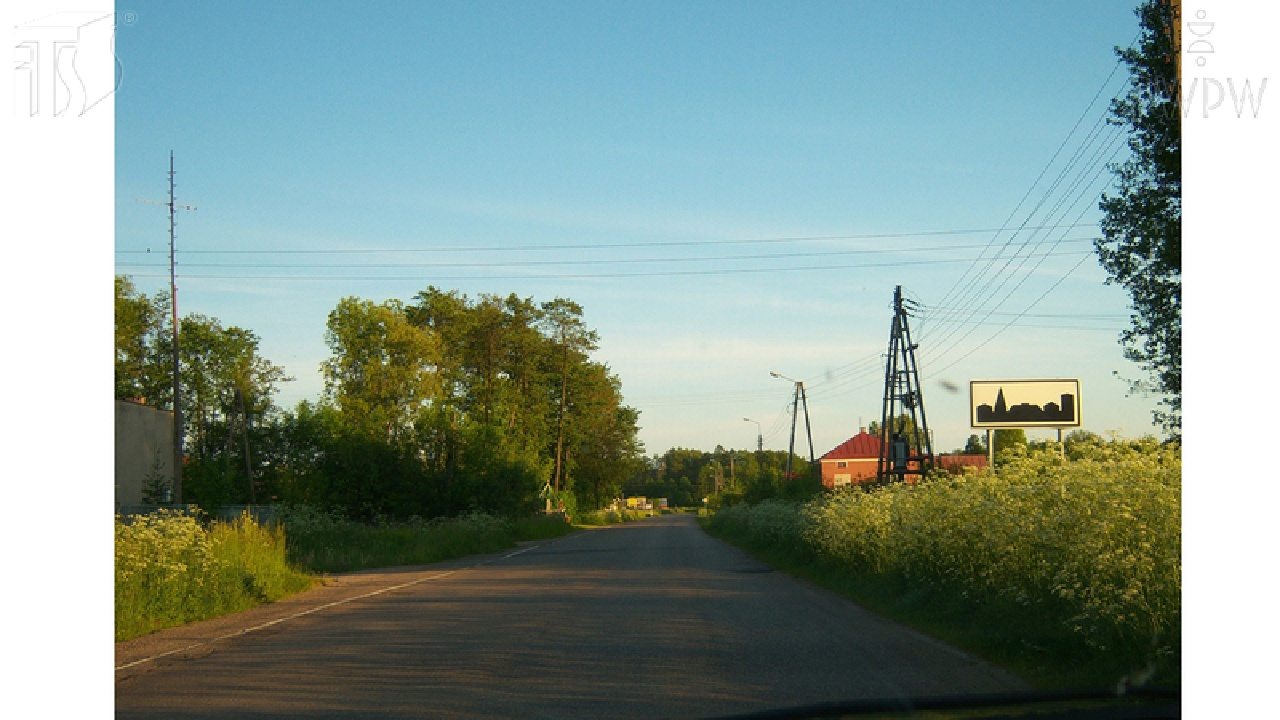D42: (970, 379, 1081, 425)
